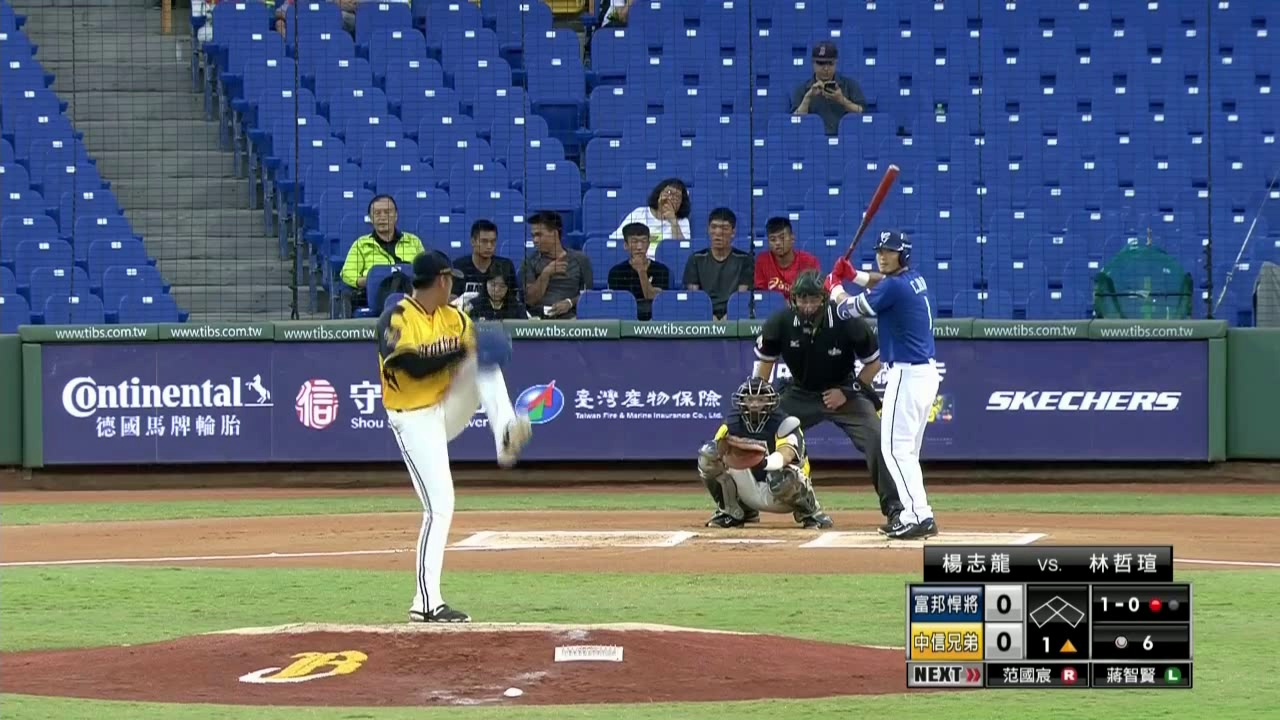base: (1029, 590, 1087, 628)
bat: (843, 161, 905, 262)
out: (1146, 596, 1179, 612)
score1: (985, 584, 1022, 621)
score2: (984, 622, 1022, 658)
session: (1037, 633, 1078, 654)
strikeball: (1099, 594, 1141, 614)
total: (1110, 627, 1159, 653)
